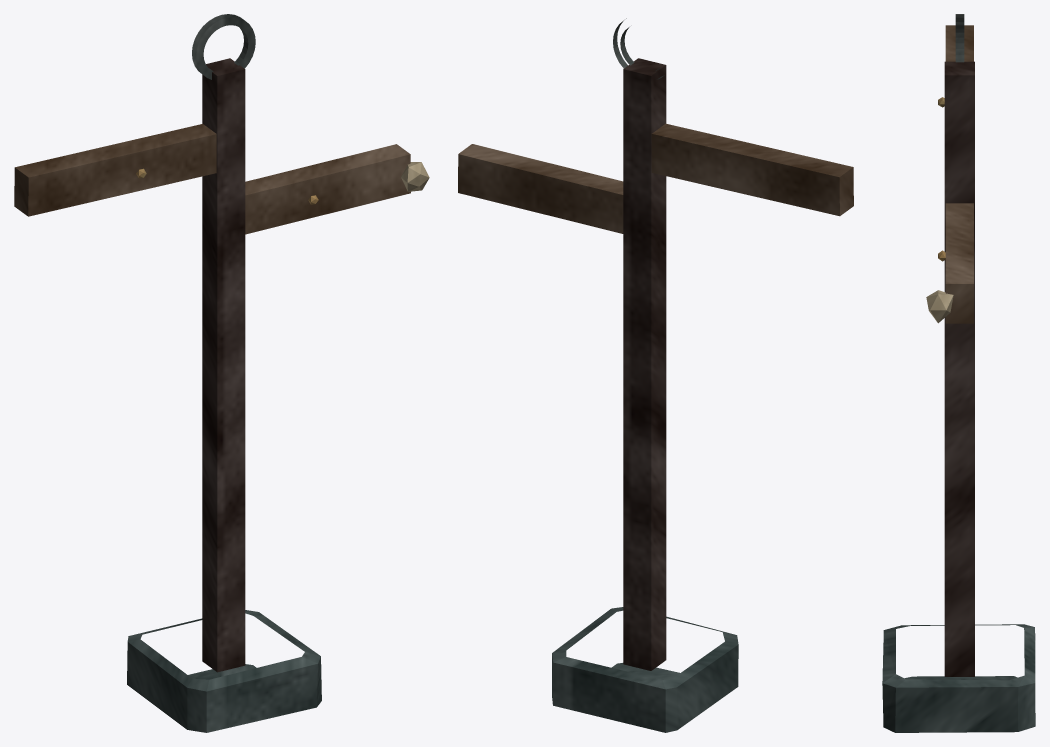
The model's file is 0634_signpost_09.glb.
3 views of the same model, side by side, from view 1: azimuth 30°, elevation 25°; view 2: azimuth 150°, elevation 25°; view 3: azimuth 270°, elevation 25° (orthographic).
Parts seen in each view (by area): view 1: wood_dark, wood, stone_dark, iron; view 2: wood_dark, wood, stone_dark; view 3: wood_dark, stone_dark, wood, bone, iron.
Part boxes in pixels (<box>): wood_dark: <box>202,58,245,672</box>; wood: <box>14,124,410,234</box>; stone_dark: <box>127,610,321,732</box>; iron: <box>192,14,255,79</box>; wood_dark: <box>623,58,666,670</box>; wood: <box>458,123,853,233</box>; stone_dark: <box>552,607,738,732</box>; wood_dark: <box>944,61,974,676</box>; stone_dark: <box>882,624,1035,732</box>; wood: <box>945,25,973,323</box>; bone: <box>926,290,953,323</box>; iron: <box>955,14,964,62</box>.
Size of the model in its own units: 2.11 by 3.49 by 0.7047.
6 materials, 6 textured.
